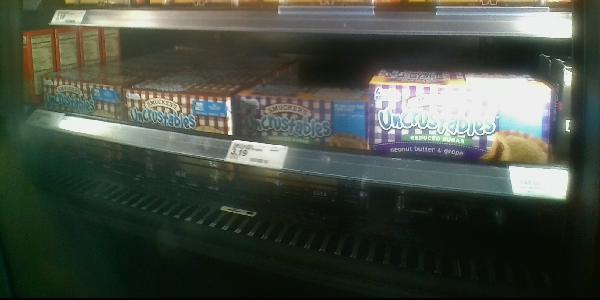icecream: (368, 61, 557, 166), (238, 91, 376, 153), (124, 85, 240, 139), (40, 70, 129, 122)
